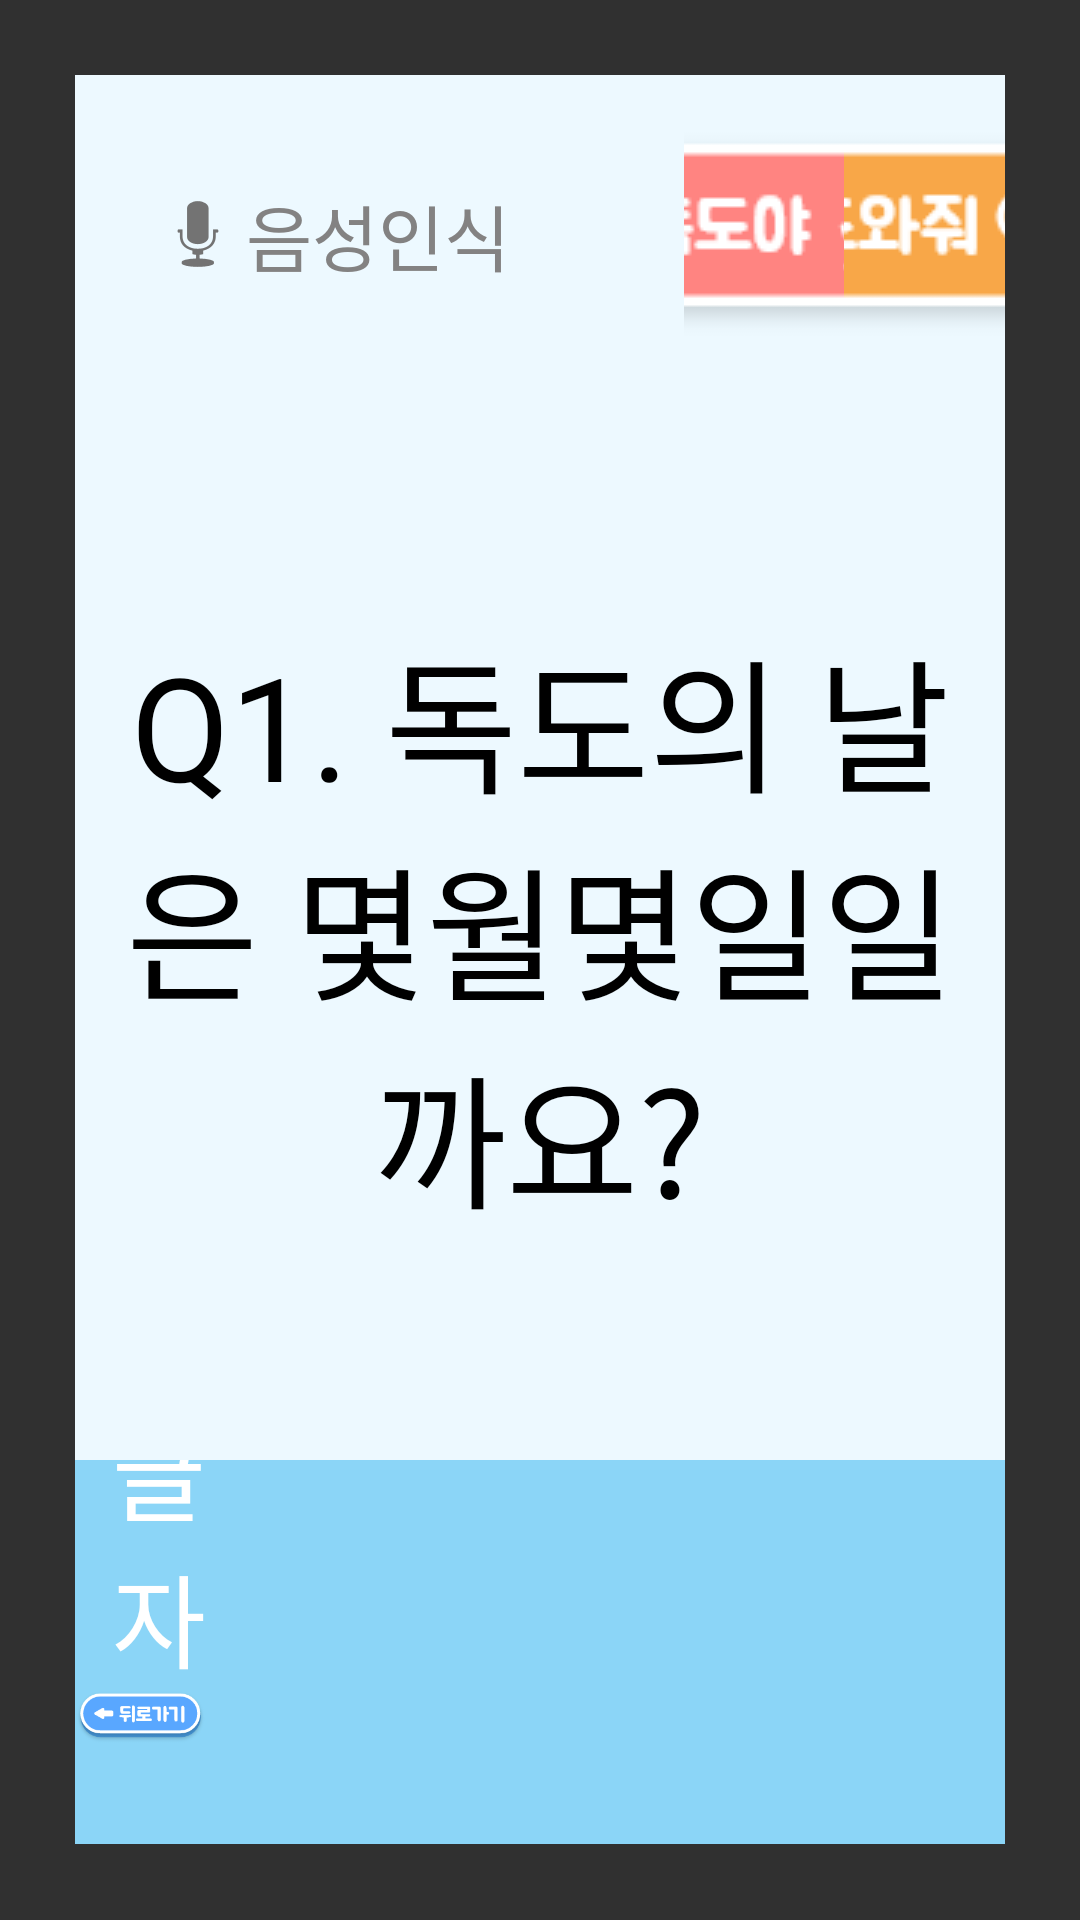

Where icons sit on this 1080 × 1920 app screen, as (x1, y1, x2, y2):
speak now: (177, 201, 219, 267)
